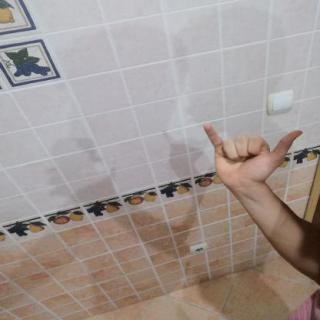YA: (192, 116, 316, 196)
